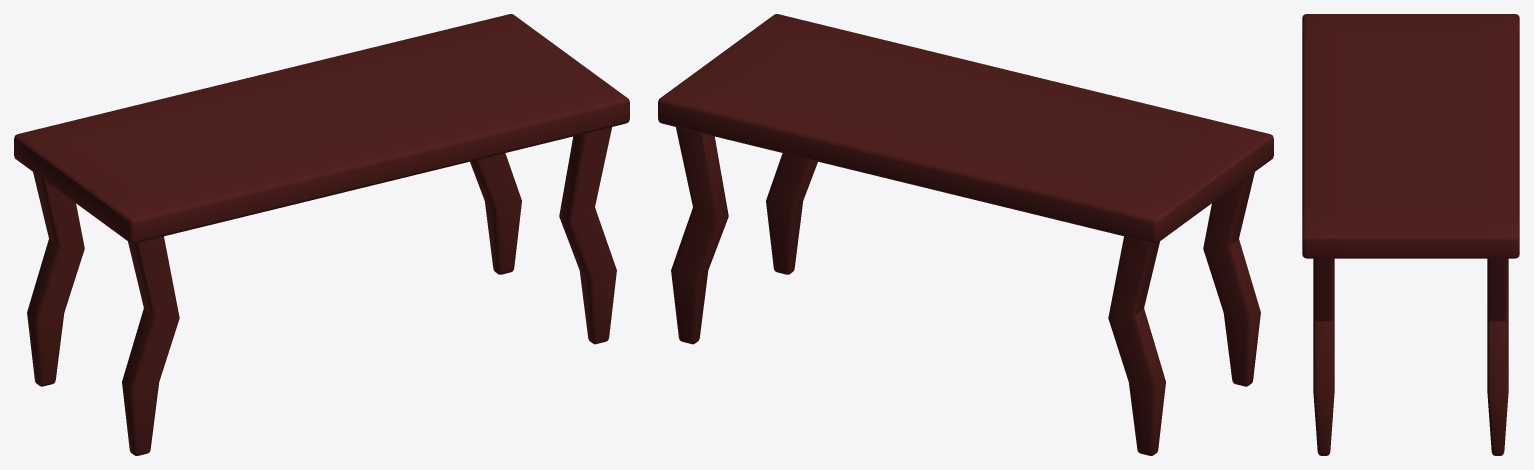
File: Table.fbx
3 renders of one model, left to right at view 1: azimuth 30°, elevation 25°; view 2: azimuth 150°, elevation 25°; view 3: azimuth 270°, elevation 25°, orthographic. The views are drawn at different scales.
Parts seen in each view (by area): view 1: Table; view 2: Table; view 3: Table.
Boxes of the visible parts, bbox=[...] form: Table: bbox=[14, 14, 629, 455]; Table: bbox=[658, 14, 1273, 455]; Table: bbox=[1302, 14, 1519, 455].
Bounding box in the file's own units: 156 × 73.45 × 63.91.
